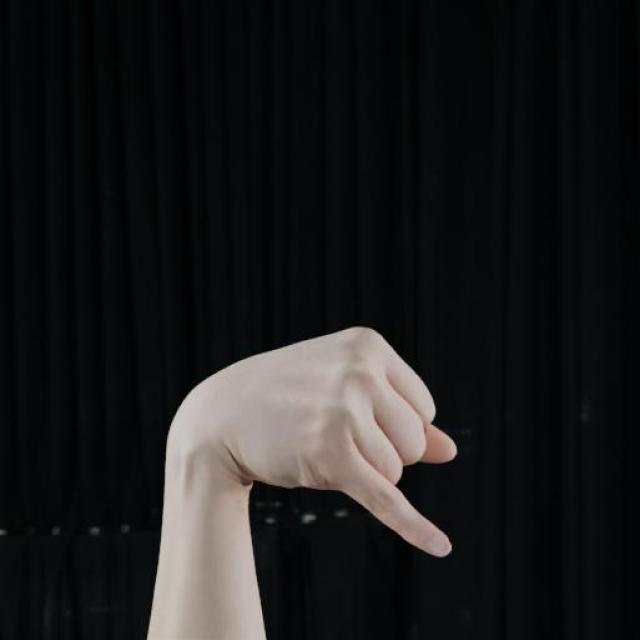J: (182, 328, 458, 561)
